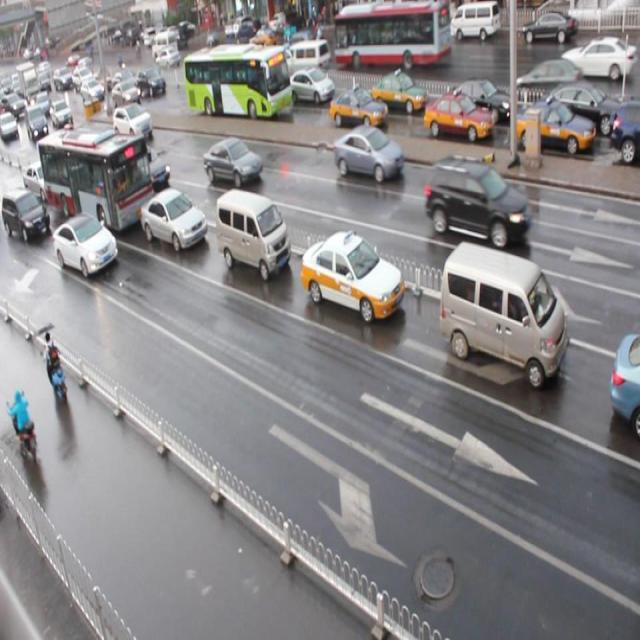BigCar: (178, 46, 302, 144), (42, 132, 142, 239), (337, 5, 457, 79)
car: (448, 242, 563, 396), (415, 146, 530, 243), (302, 235, 402, 318), (204, 196, 284, 283), (50, 206, 114, 282), (328, 129, 401, 192), (140, 188, 211, 246), (209, 132, 264, 182), (7, 182, 48, 246), (424, 100, 489, 136), (329, 88, 386, 129)
